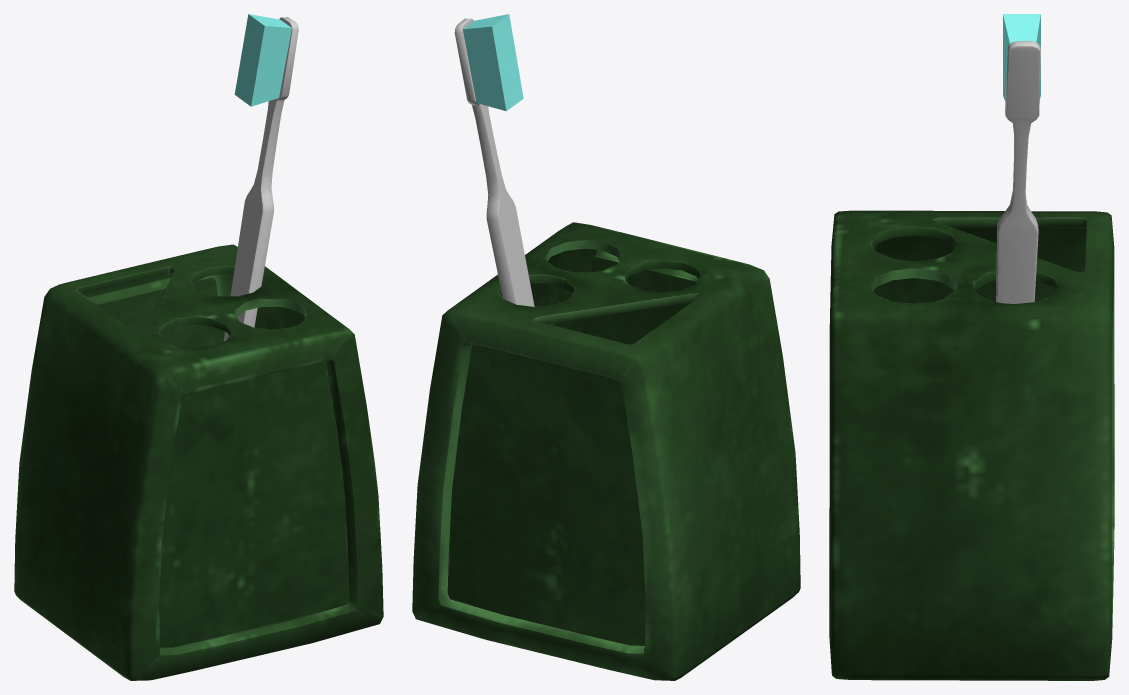
Rendered from Prop_Toothbrush.fbx.
3 views of the same model, side by side, from view 1: azimuth 30°, elevation 25°; view 2: azimuth 150°, elevation 25°; view 3: azimuth 270°, elevation 25° (orthographic). The views are drawn at different scales.
Parts seen in each view (by area): view 1: Prop_Toothbrush; view 2: Prop_Toothbrush; view 3: Prop_Toothbrush.
Boxes of the visible parts, <box> form: Prop_Toothbrush: <box>14,14,383,680</box>; Prop_Toothbrush: <box>412,14,800,680</box>; Prop_Toothbrush: <box>829,14,1114,680</box>.
Bounding box in the file's own units: 3.99 × 8.32 × 3.33.
